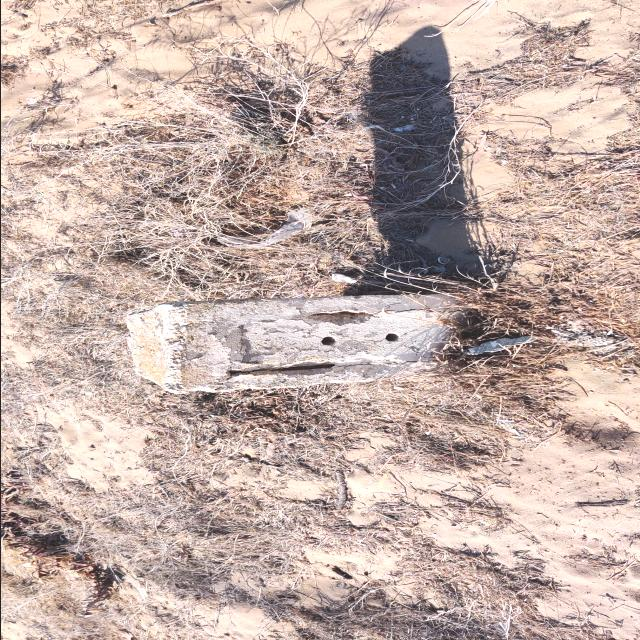Plastic film: (216, 208, 313, 248)
Unlabeled litter: (331, 273, 356, 283)
